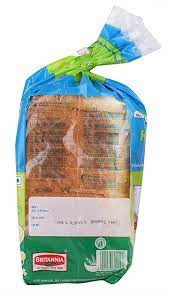bread: (19, 20, 150, 291)
